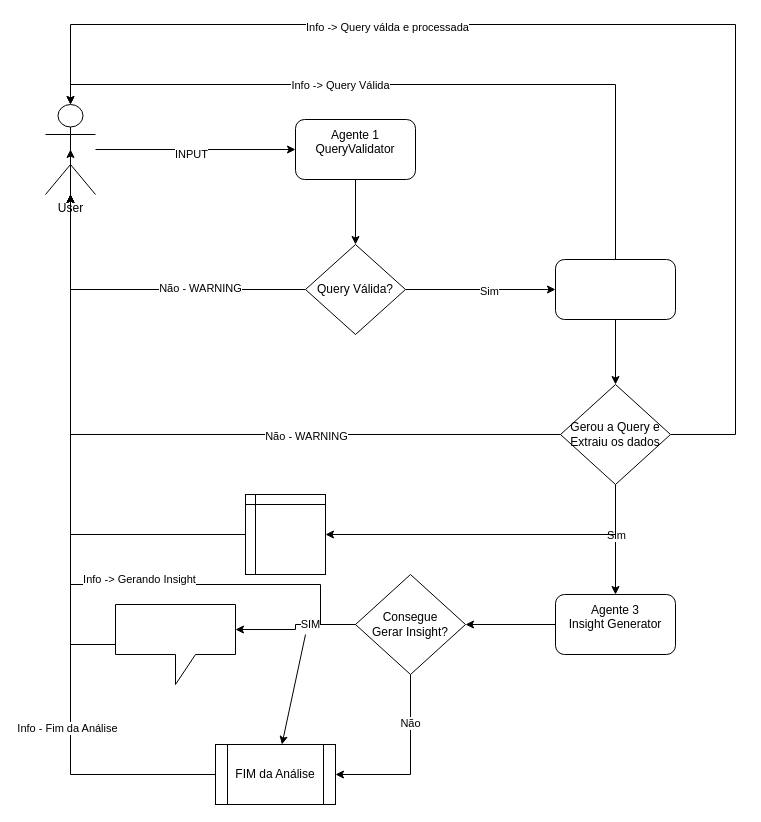
This 761x822 diagram has some shape labels left out. The centre of each missing label's shape, as x and y in pixels:
Agente 2 SQL Generator e Runner: point (615, 289)
OUTPUT 1 Dataframe: point (285, 534)
OUTPUT 2 - Insight: point (175, 644)
